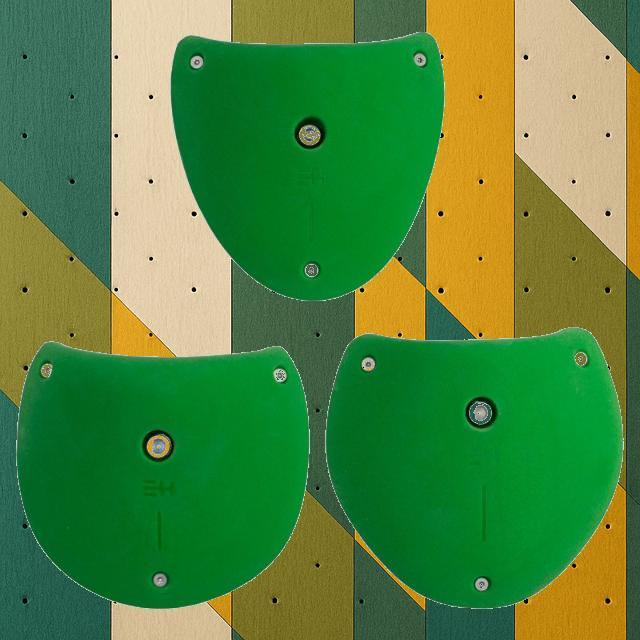Jug: (325, 326, 623, 608), (15, 340, 309, 608), (169, 31, 445, 301)
